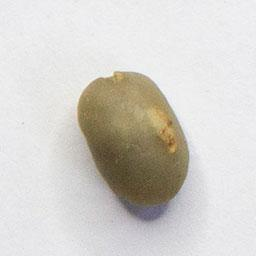peaberry: (74, 66, 192, 210)
